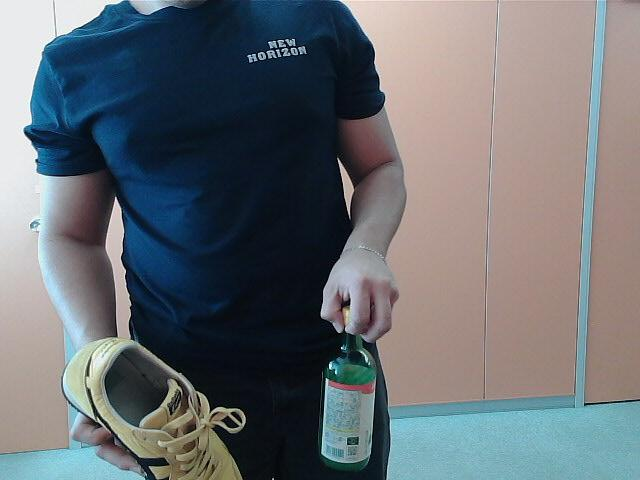Lemon_sapporo: (320, 289, 376, 474)
Shoes: (55, 331, 247, 480)
